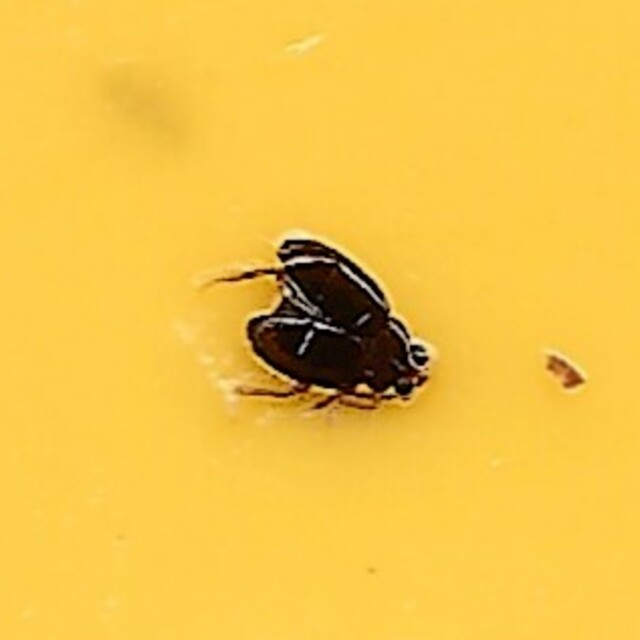Coleoptera: (202, 229, 438, 411)
